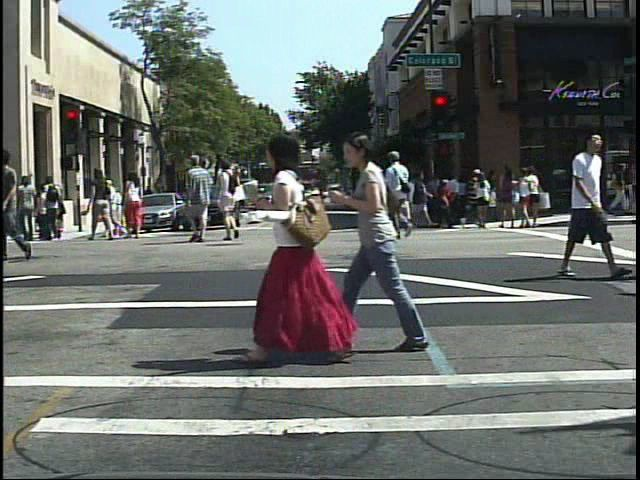person: (240, 128, 350, 369), (341, 121, 439, 356), (548, 124, 625, 282), (0, 143, 36, 263), (384, 147, 422, 245), (180, 151, 218, 245), (214, 155, 242, 245), (87, 165, 118, 245), (15, 170, 42, 246), (121, 167, 147, 241), (40, 173, 63, 243), (473, 167, 495, 230), (470, 164, 481, 230)
